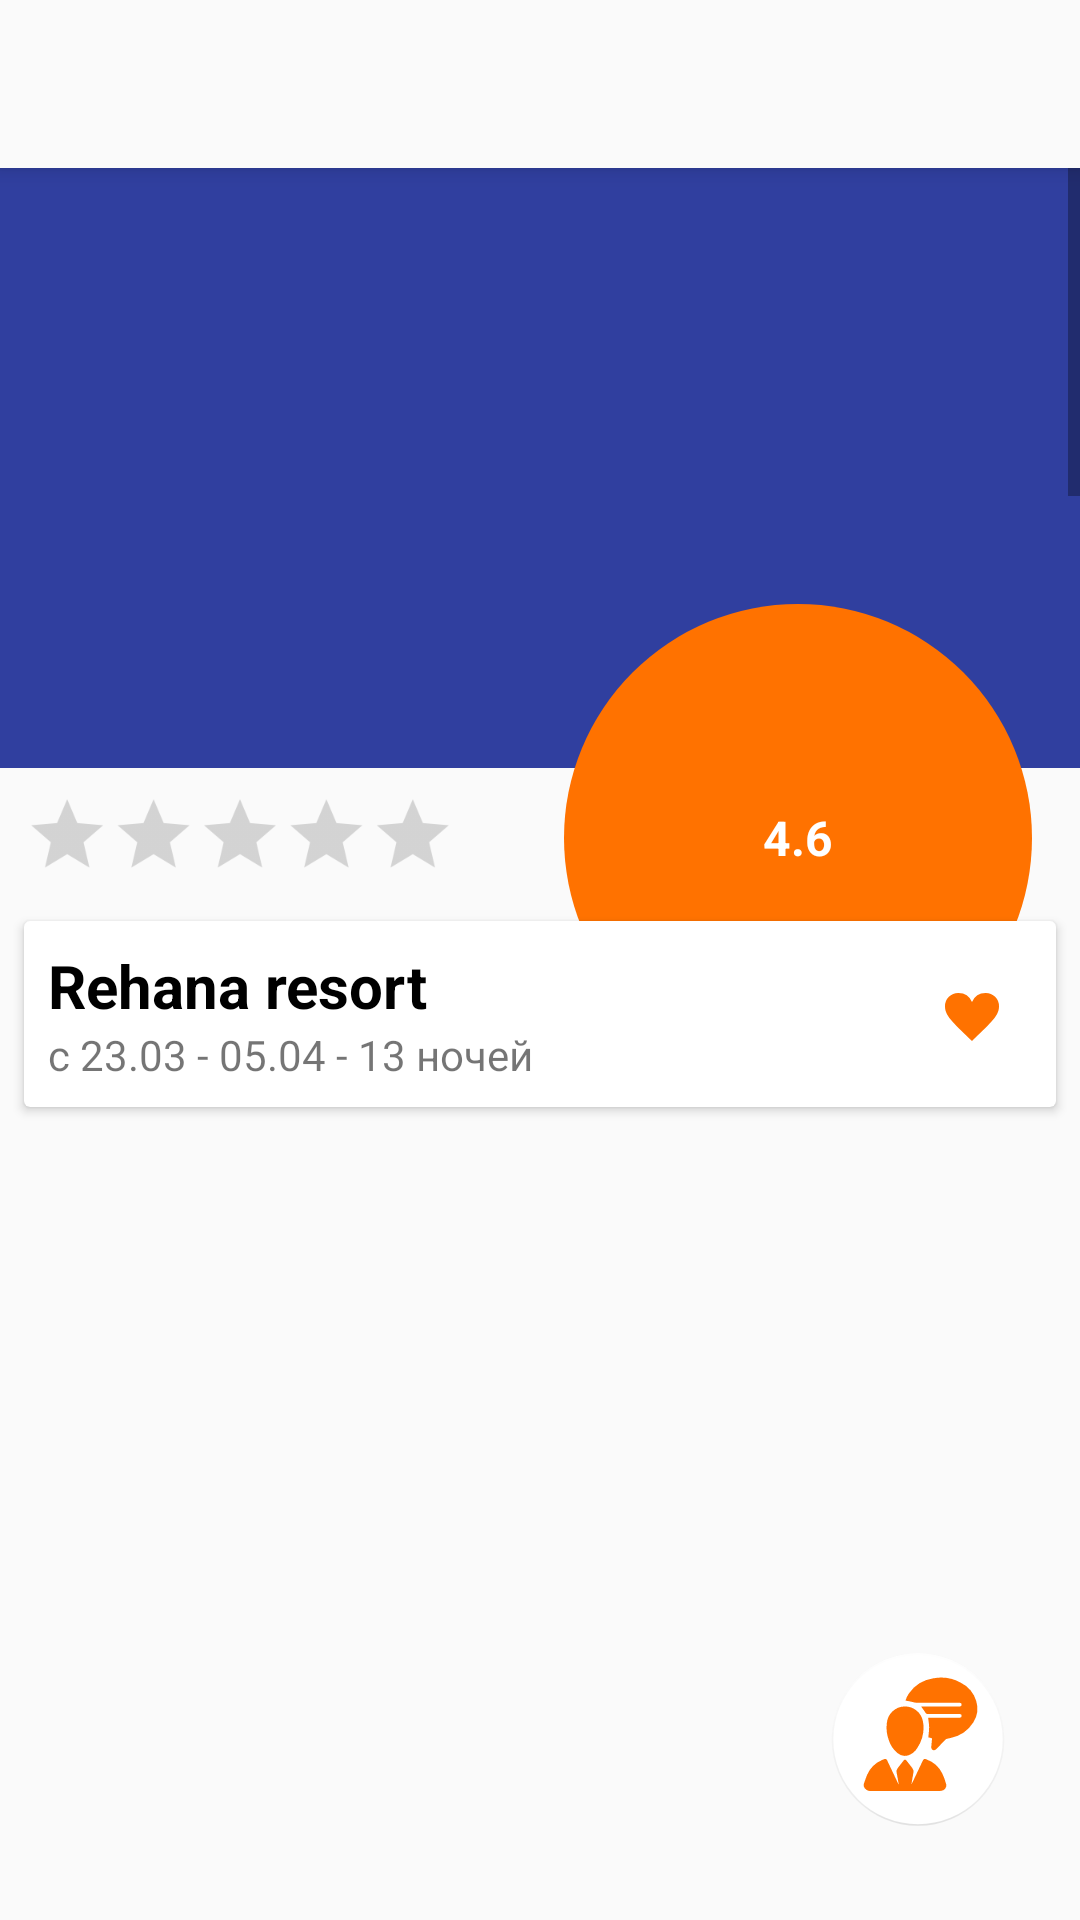

Screen size 1080x1920. Icon name, then its box in pixels as [x1,y1,x2,y2]:
chat: [863,1677,978,1825]
hart: [945,993,999,1041]
